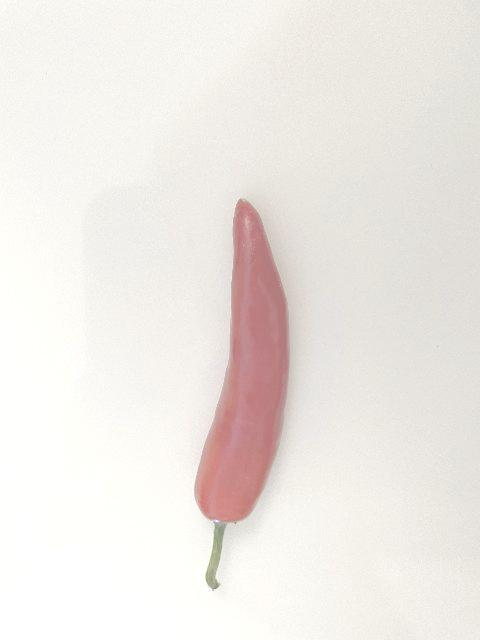chilli: (195, 197, 291, 591)
